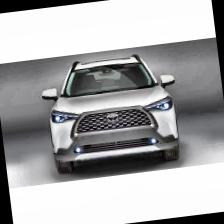NON-EV: (37, 49, 189, 178)
